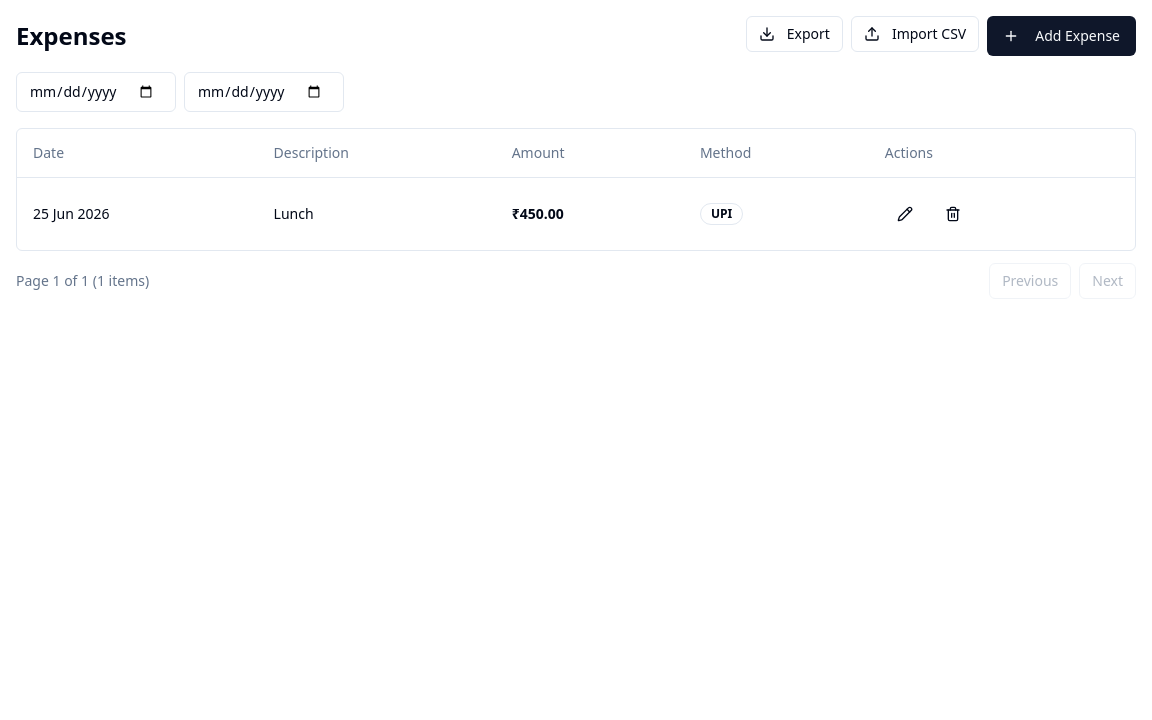
Test: ExpensesPage › expense form validates required fields before submit
Click the button "Add Expense" at (1062, 36), box [987,16,1136,56]
(page scrolled)
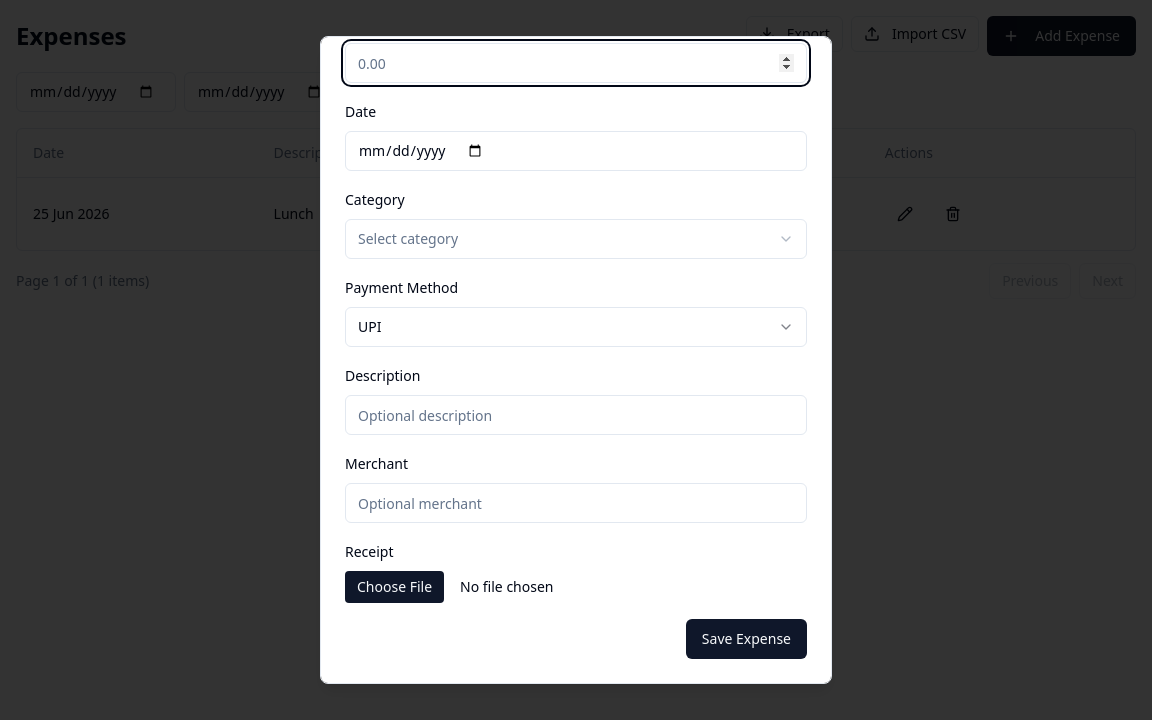
Click the button "Save Expense" at (746, 639), box [686,619,807,659]
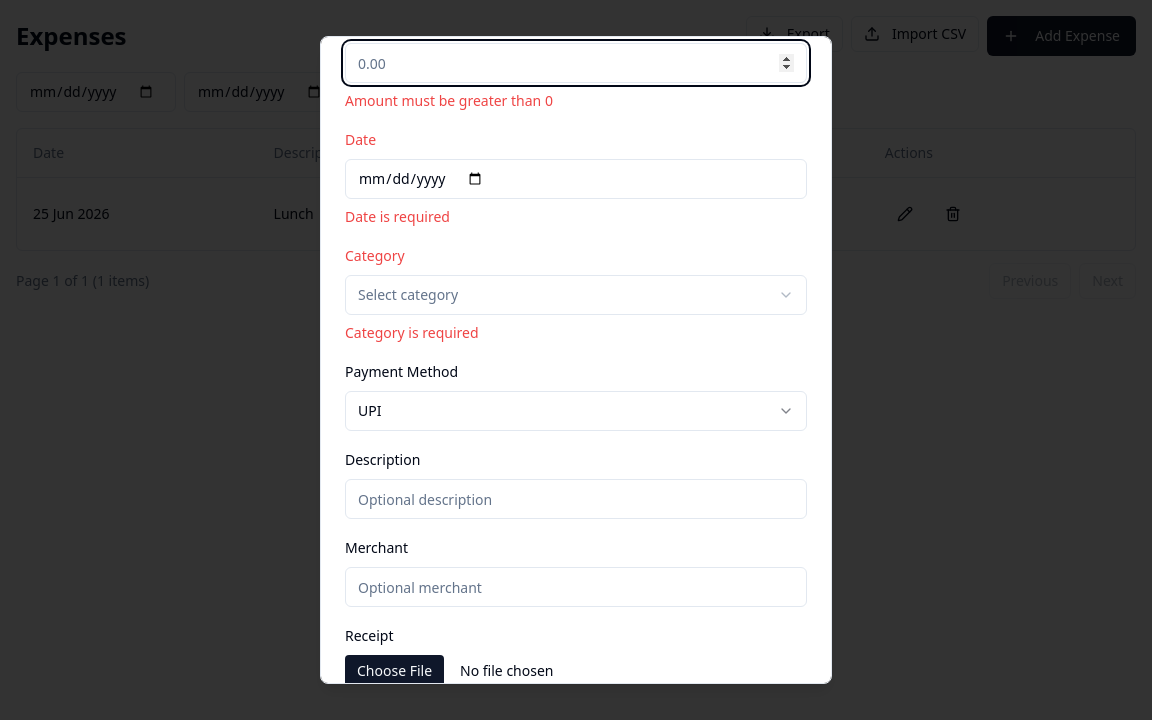
Now the text "Amount must be greater than 0" is shown, box [345,91,553,110]
